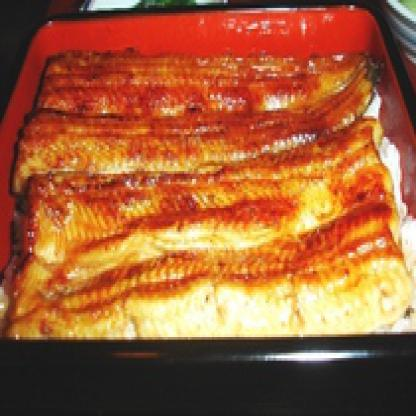eel: (38, 42, 378, 335)
